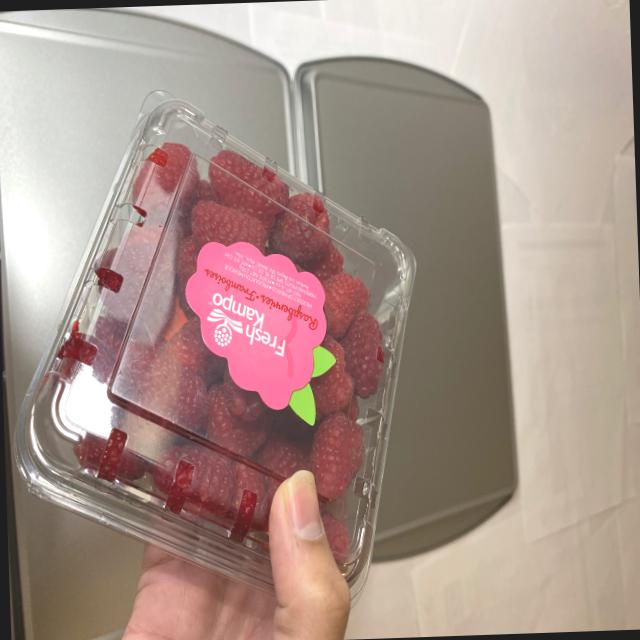raspberries: (86, 140, 394, 578)
